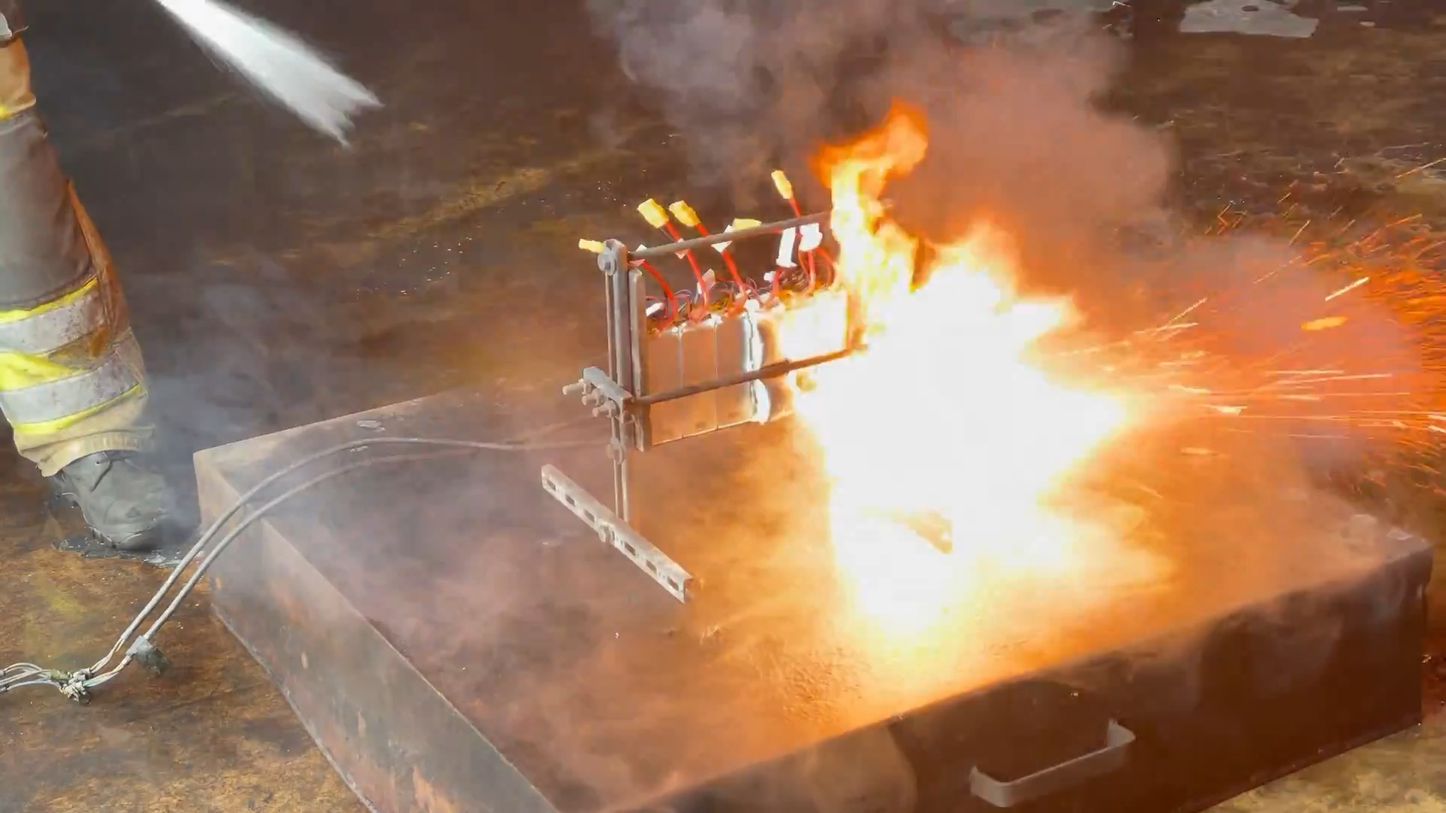fire: (761, 93, 1188, 674)
smoke: (98, 232, 669, 736), (584, 1, 1201, 279)
